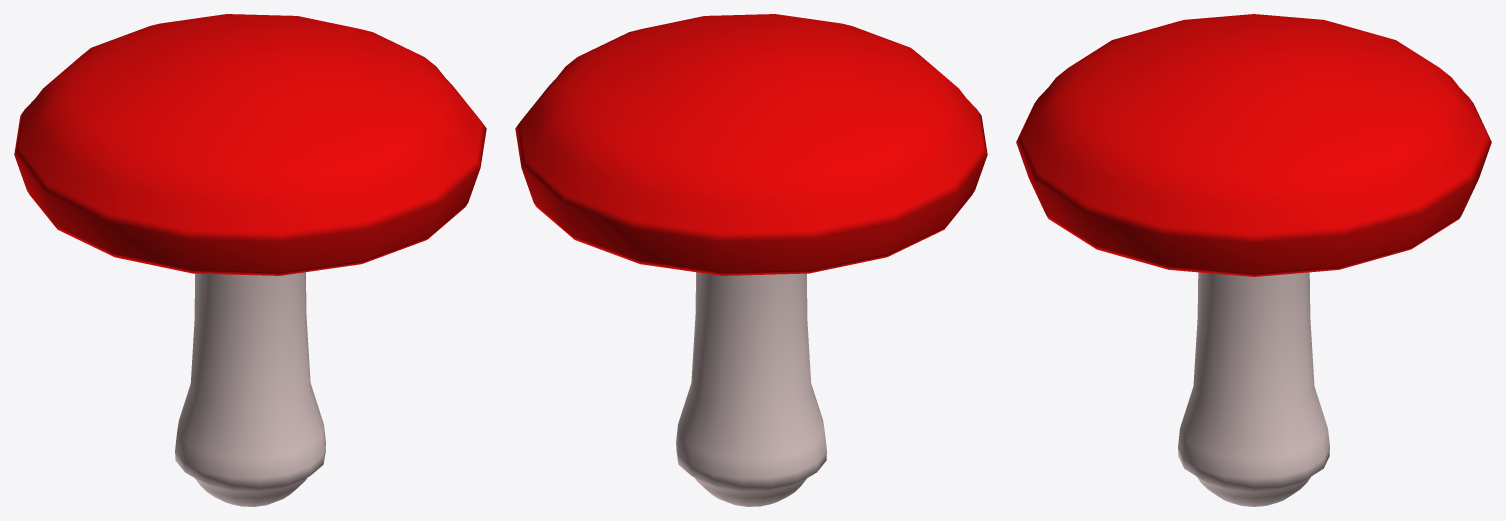
File: Mushroom_Toadstool.fbx
The picture shows the model from 3 angles, left to right: view 1: azimuth 30°, elevation 25°; view 2: azimuth 150°, elevation 25°; view 3: azimuth 270°, elevation 25°; orthographic projection.
Parts seen in each view (by area): view 1: Toadstool_mushroom_Body; view 2: Toadstool_mushroom_Body; view 3: Toadstool_mushroom_Body.
Part boxes in pixels (bbox=[...]): Toadstool_mushroom_Body: bbox=[14, 14, 486, 506]; Toadstool_mushroom_Body: bbox=[515, 14, 987, 506]; Toadstool_mushroom_Body: bbox=[1016, 14, 1491, 506].
Bounding box in the file's own units: 761 × 761 × 787.
